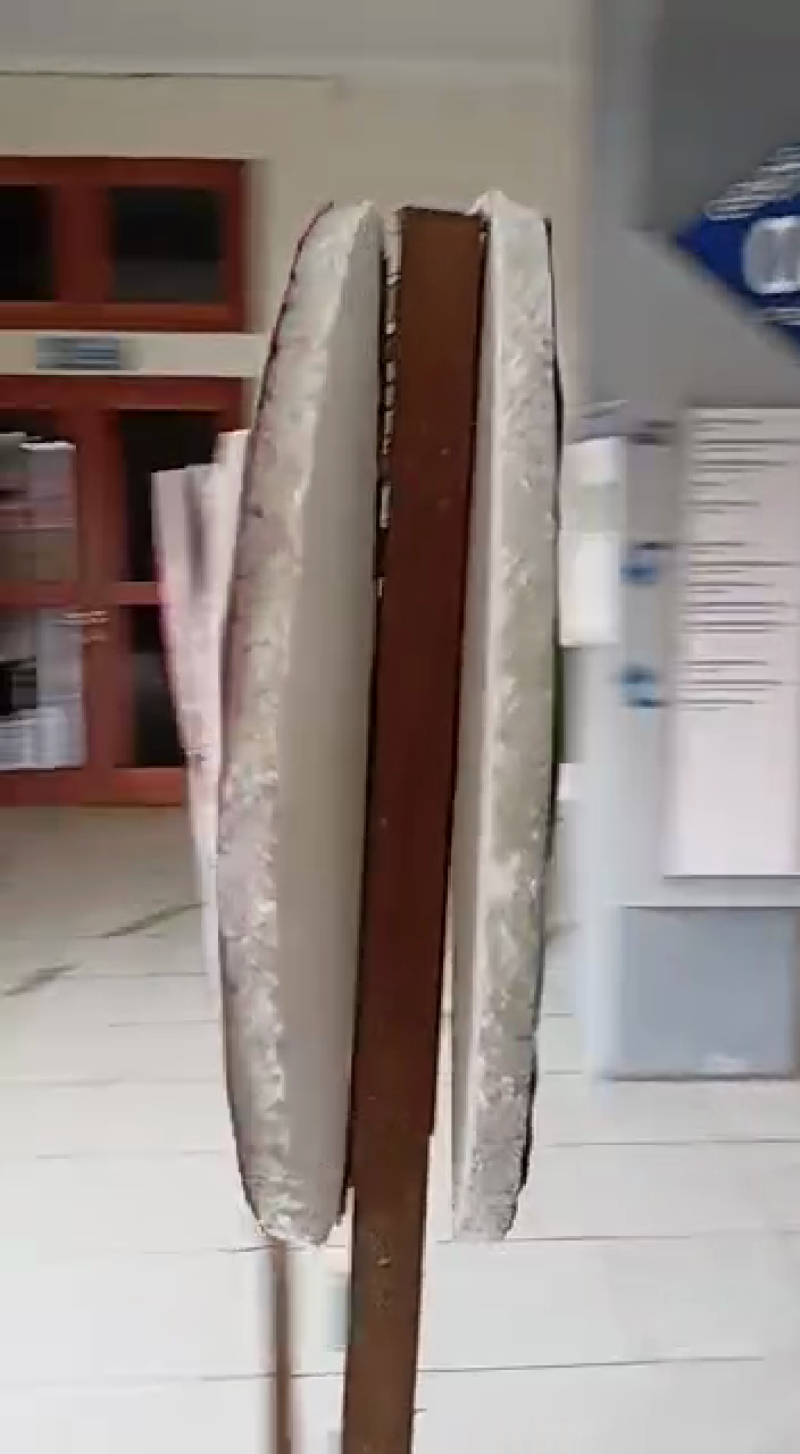batas maksimal 100kmperjam: (192, 177, 557, 1274)
